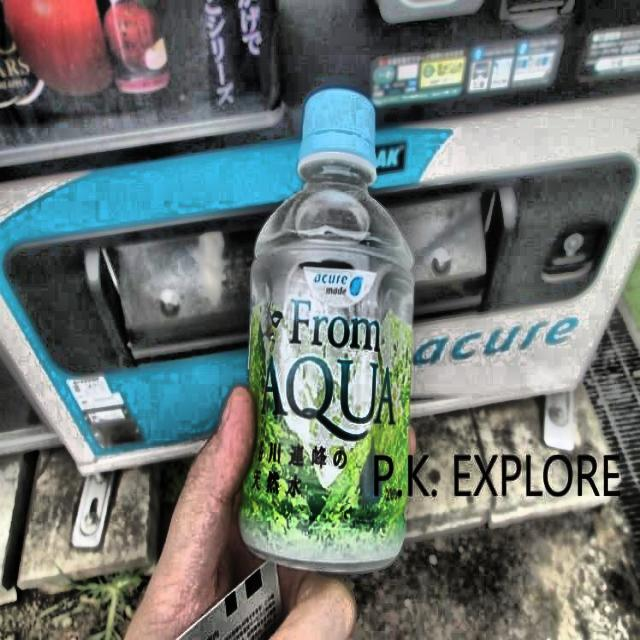Bottles: (192, 54, 451, 596)
